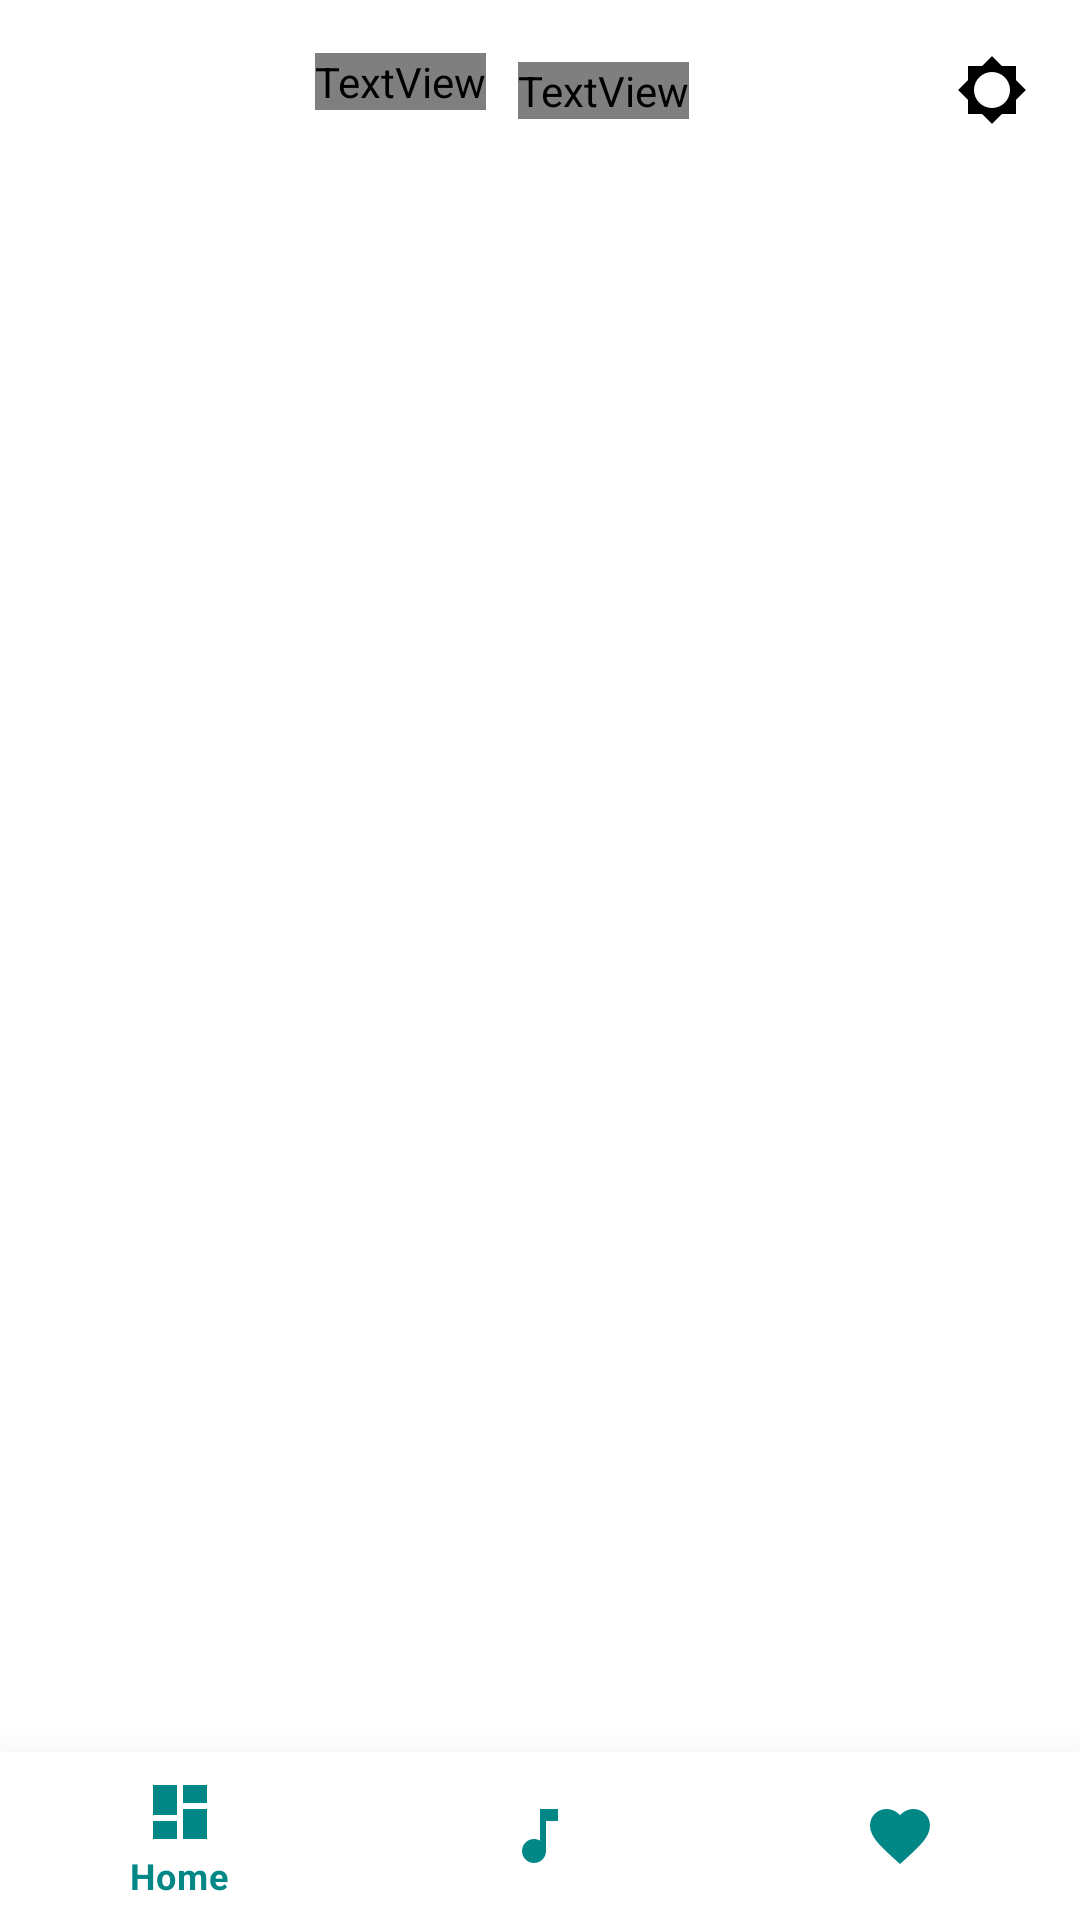

Icons on this 1080px×1920px Android screen, each with its box as (x1, y1, x2, y2):
brightness: (958, 56, 1026, 124)
